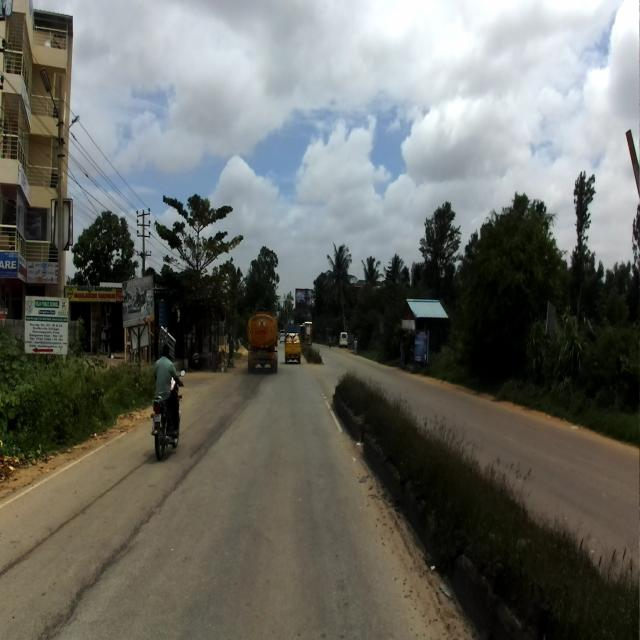motorcycle: (150, 368, 185, 462)
truck: (247, 299, 278, 373), (284, 328, 301, 363)
